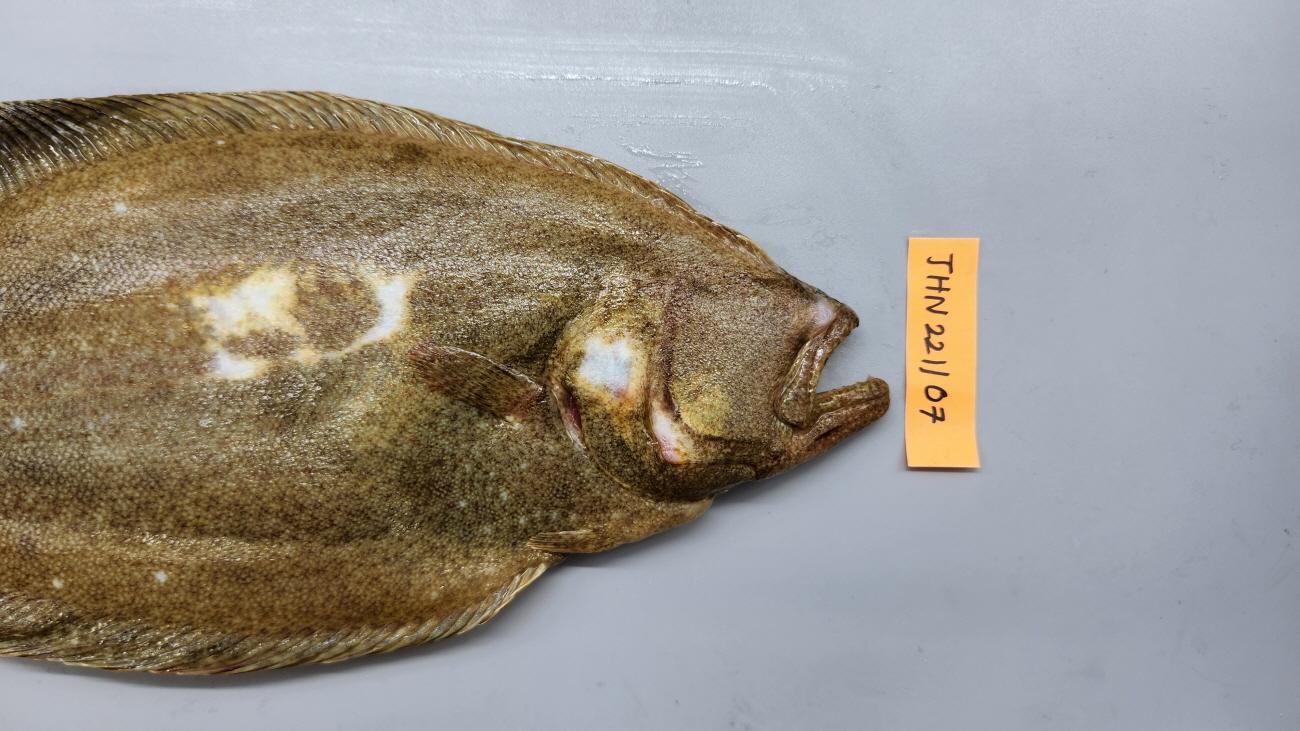POOUN: (0, 90, 891, 678)
